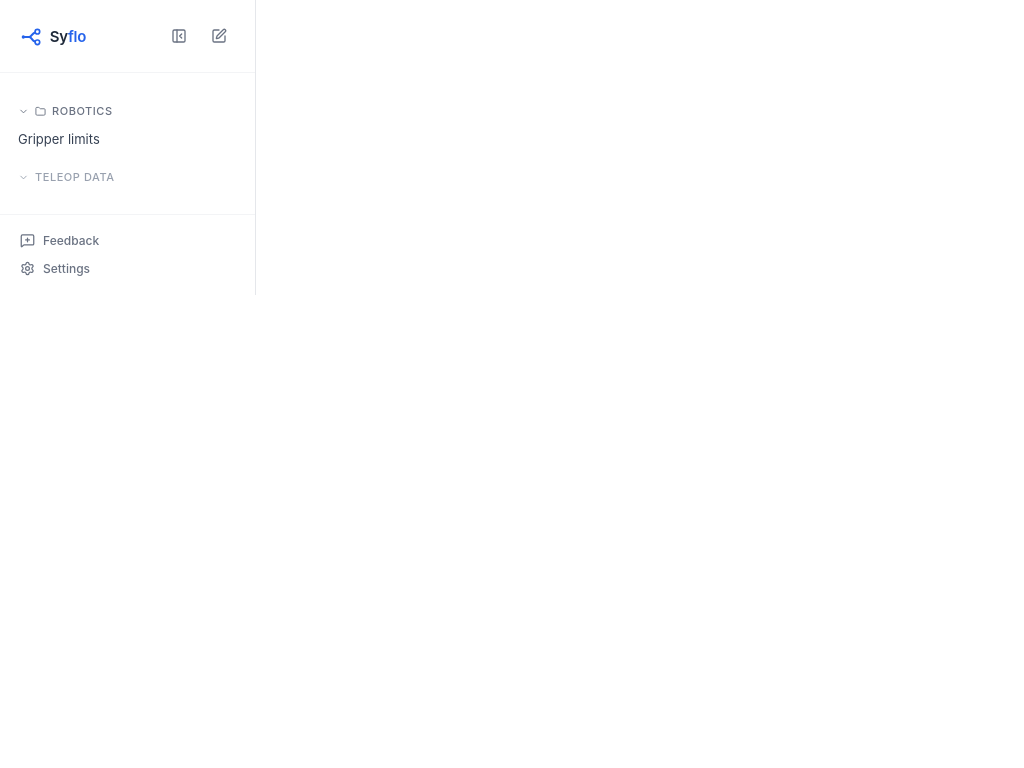
the category’s own menu › deletes nothing when the question is cancelled
Right-click the text "Robotics" at (82, 111), box [52, 104, 113, 118]
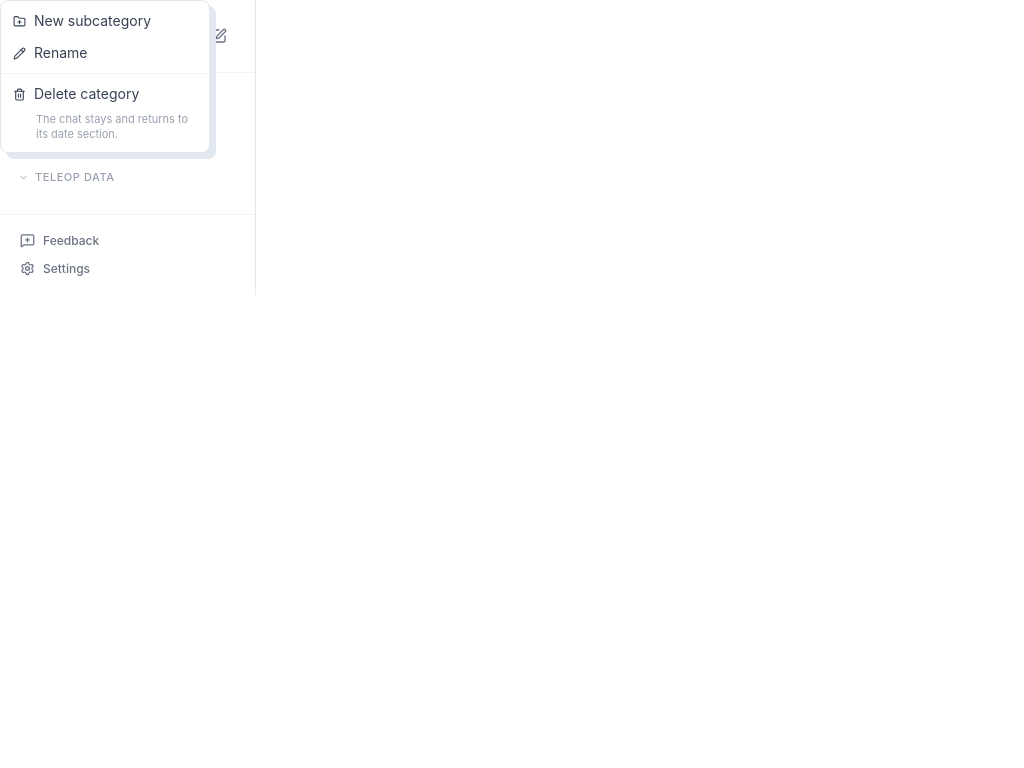
Click the button "Delete category" at (105, 94), box [1, 78, 209, 110]
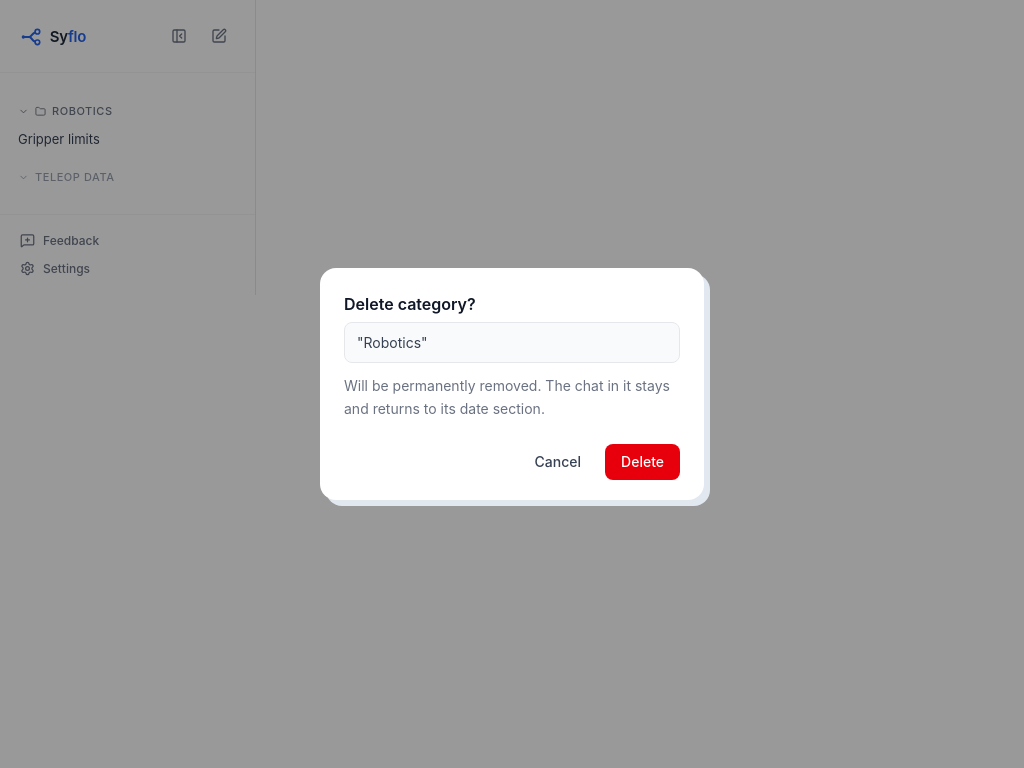
Click the button "Cancel" at (558, 462), box [519, 444, 597, 480]
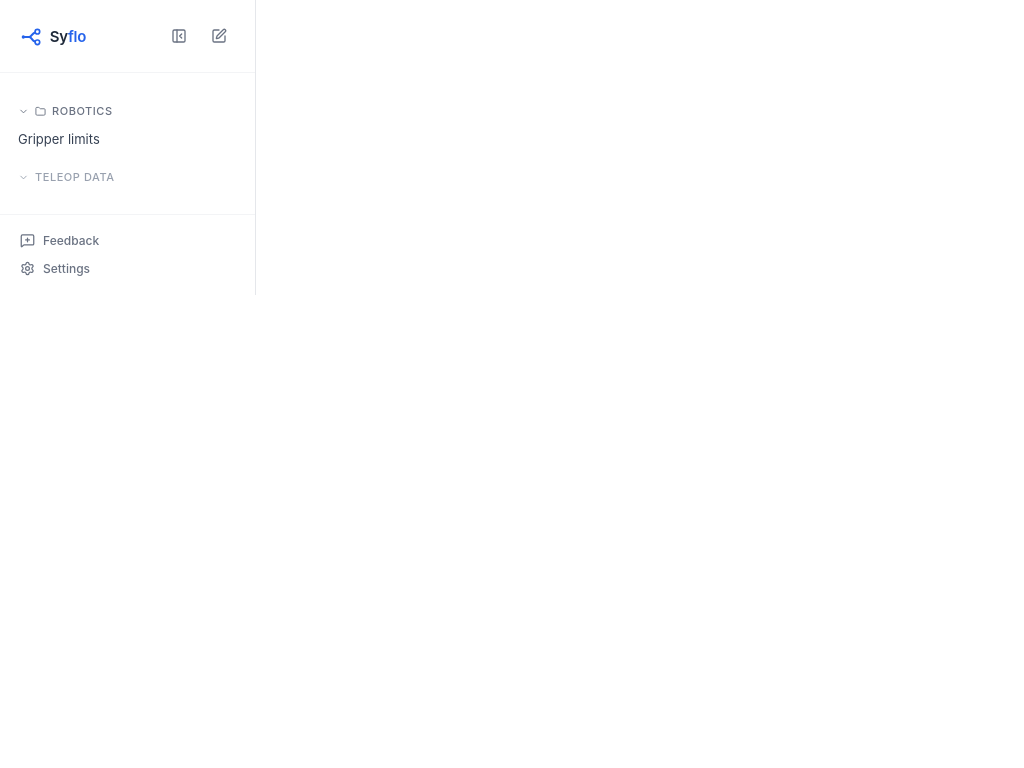
Check: the heading "Delete category?" is gone
